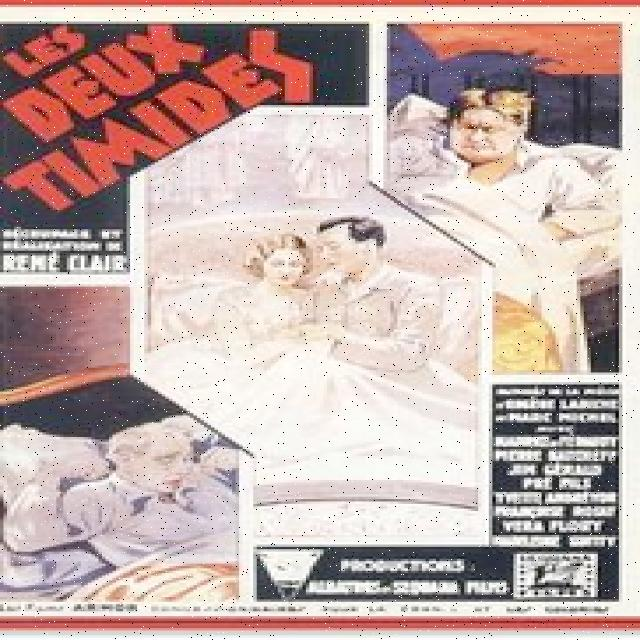movie-judul: (3, 24, 318, 210)
picture: (2, 411, 231, 585), (196, 223, 435, 377), (424, 88, 608, 246)
